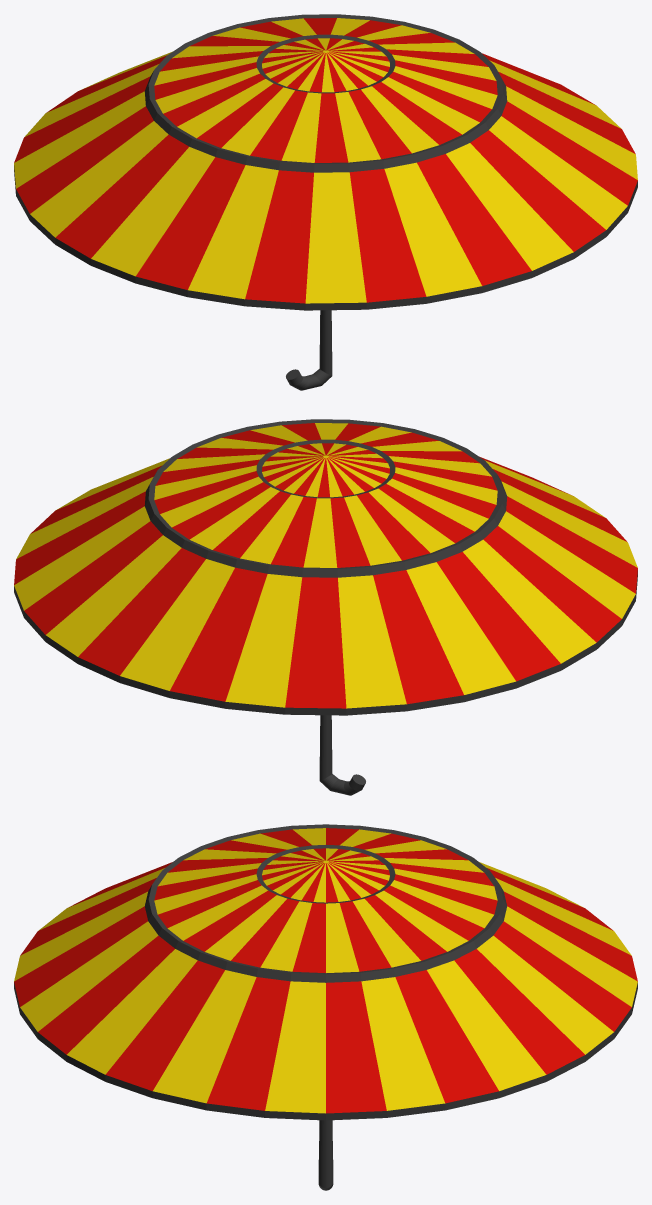
The model's file is Parapluit.fbx.
3 views of the same model, one above another, from view 1: azimuth 30°, elevation 25°; view 2: azimuth 150°, elevation 25°; view 3: azimuth 270°, elevation 25° (orthographic).
Visible parts, largest first — view 1: Cylinder; view 2: Cylinder; view 3: Cylinder.
Part boxes in pixels (x1,y1,x2,y2): Cylinder: (14,14,637,390); Cylinder: (14,419,637,795); Cylinder: (14,824,637,1190).
Bounding box in the file's own units: 324 × 190 × 324.
